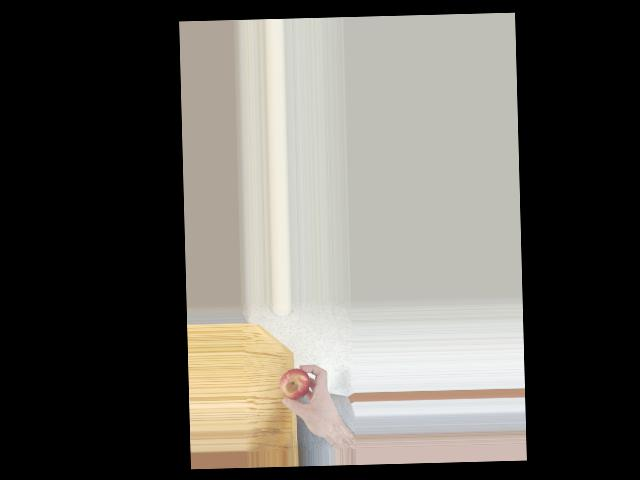apple: (279, 367, 308, 401)
